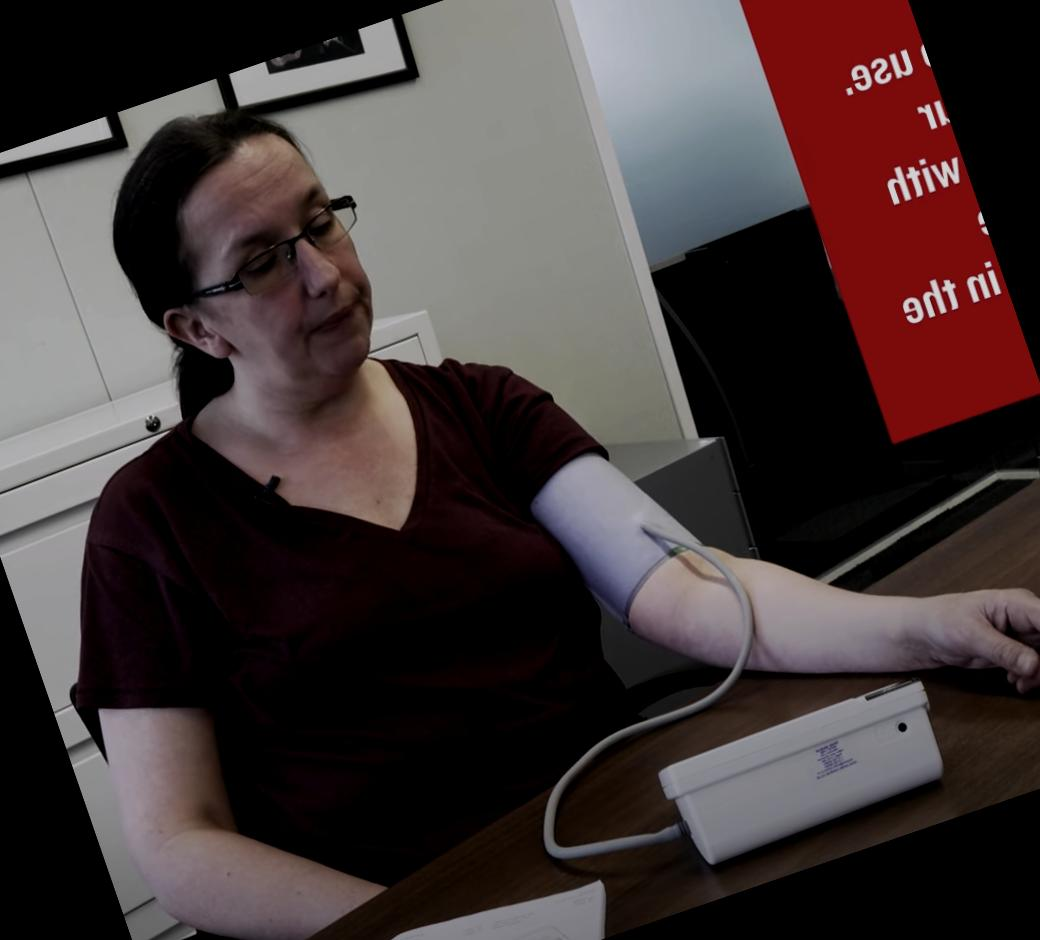cuff: (518, 430, 719, 650)
